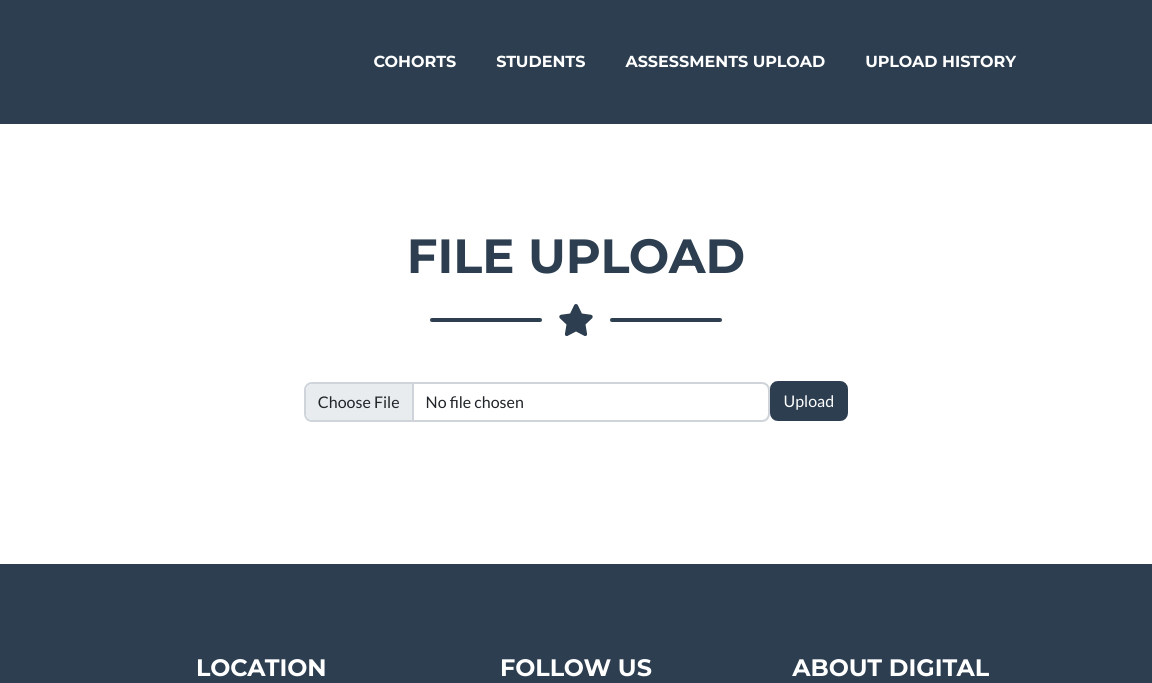
Test case: file upload › will not run if no file is selected
Click the button with id "upload" at (810, 402), box [770,382,849,422]
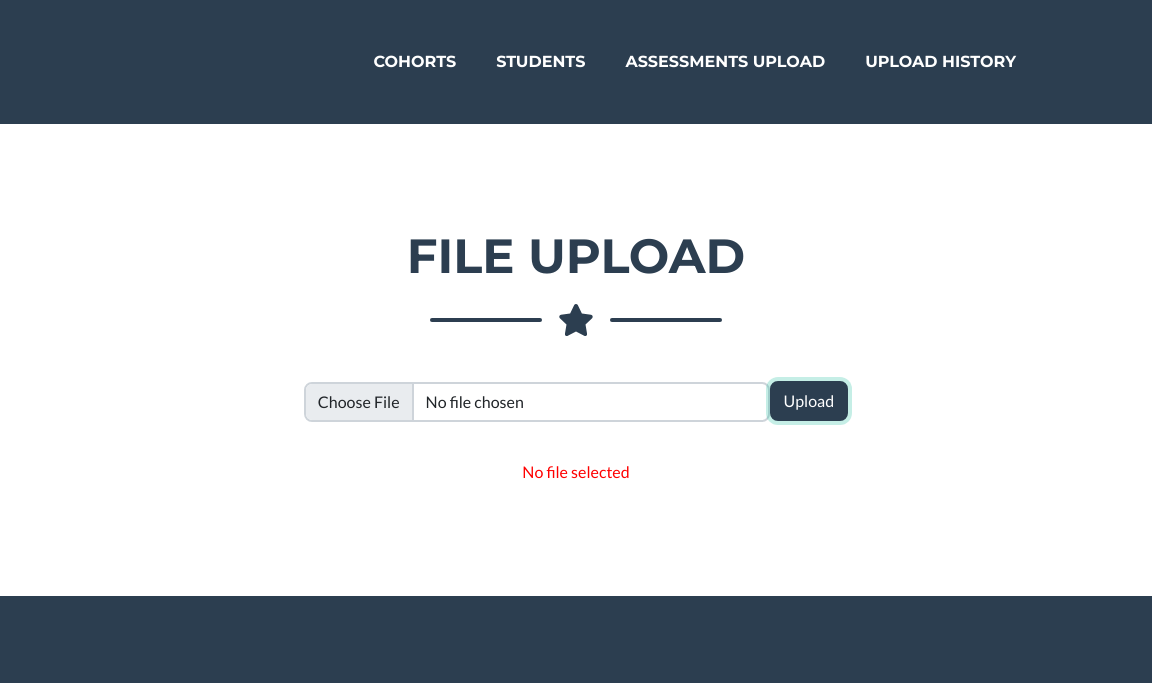
Now the text with id "invalid" reads "No file selected", box [522,462,629,481]
